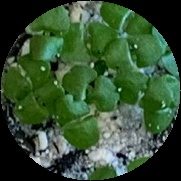Basil: (27, 2, 68, 64), (66, 68, 120, 112), (140, 75, 178, 135), (55, 99, 100, 149), (17, 80, 62, 125), (114, 69, 162, 110), (4, 56, 50, 98), (103, 36, 158, 71), (103, 0, 149, 38), (64, 24, 114, 58)
